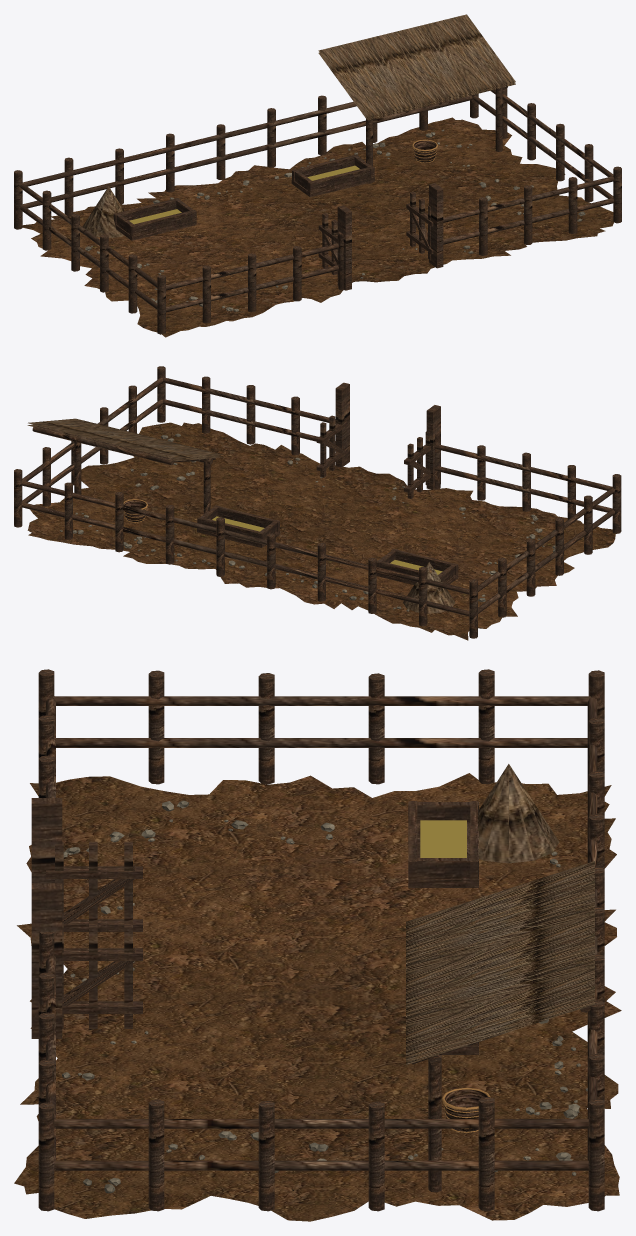
The model's file is pasture@1.glb.
3 renders of one model, top to bottom at view 1: azimuth 30°, elevation 25°; view 2: azimuth 150°, elevation 25°; view 3: azimuth 270°, elevation 25°, orthographic. The views are drawn at different scales.
Visible parts, largest first — view 1: part_0, part_2, part_6, part_1, part_3; view 2: part_0, part_2, part_6, part_1, part_3; view 3: part_0, part_2, part_6, part_1, part_3, part_4.
Boxes of the visible parts, x1,y1,x2,y2 form: part_0: (22,117,613,337); part_2: (14,86,621,334); part_6: (82,14,515,238); part_1: (85,129,585,311); part_3: (129,165,359,224); part_0: (27,422,615,640); part_2: (14,366,621,638); part_6: (27,418,455,613); part_1: (60,433,555,611); part_3: (212,516,442,574); part_0: (14,773,621,1221); part_2: (31,669,604,1211); part_6: (406,764,594,1064); part_1: (62,800,587,1193); part_3: (420,820,466,857); part_4: (444,1089,487,1131).
Size of the model in its own units: 7.59 by 1.61 by 4.35.
7 materials, 5 textured.
